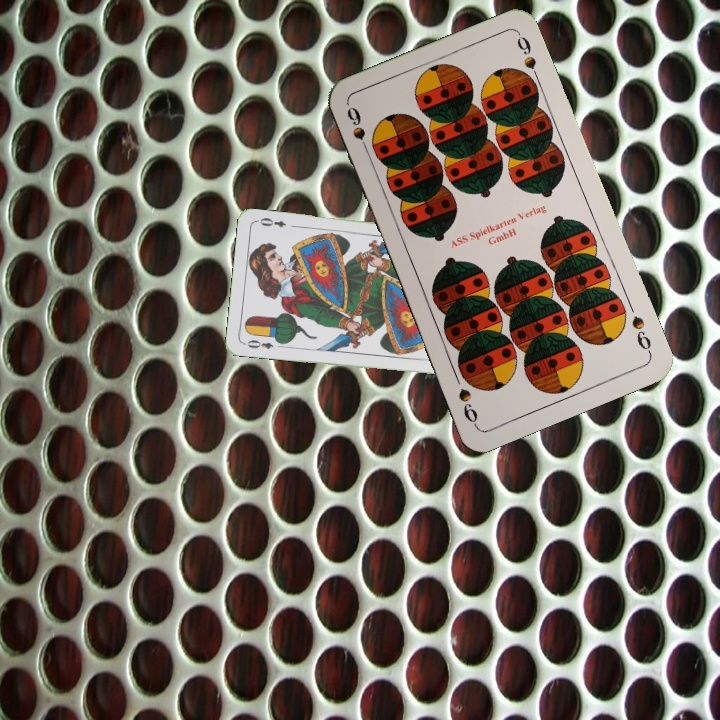EO: (240, 336, 276, 352)
S9: (342, 102, 373, 159), (627, 312, 654, 357)
